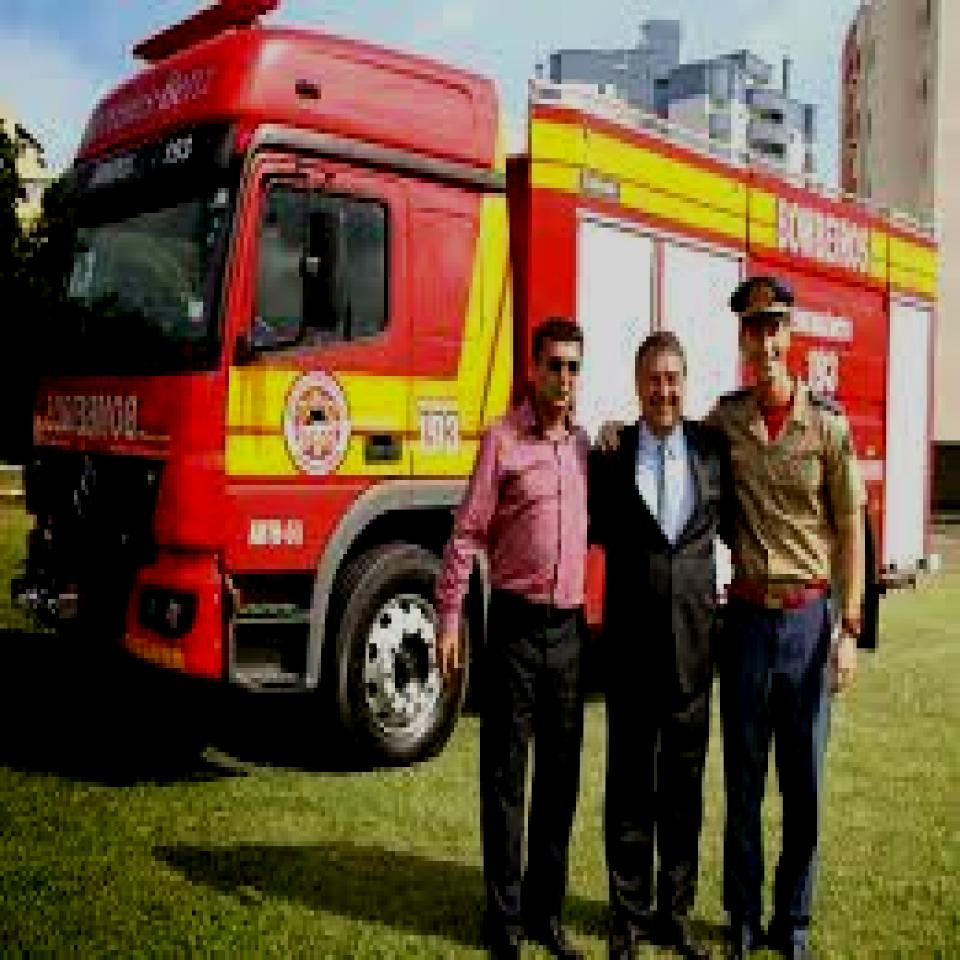bombeiro: (9, 0, 442, 784)
